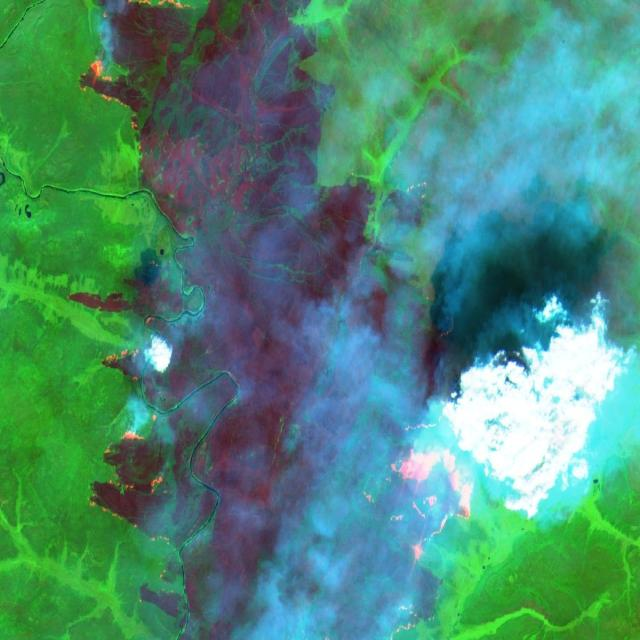fire: (79, 320, 180, 559), (382, 422, 483, 573), (74, 38, 149, 146)
